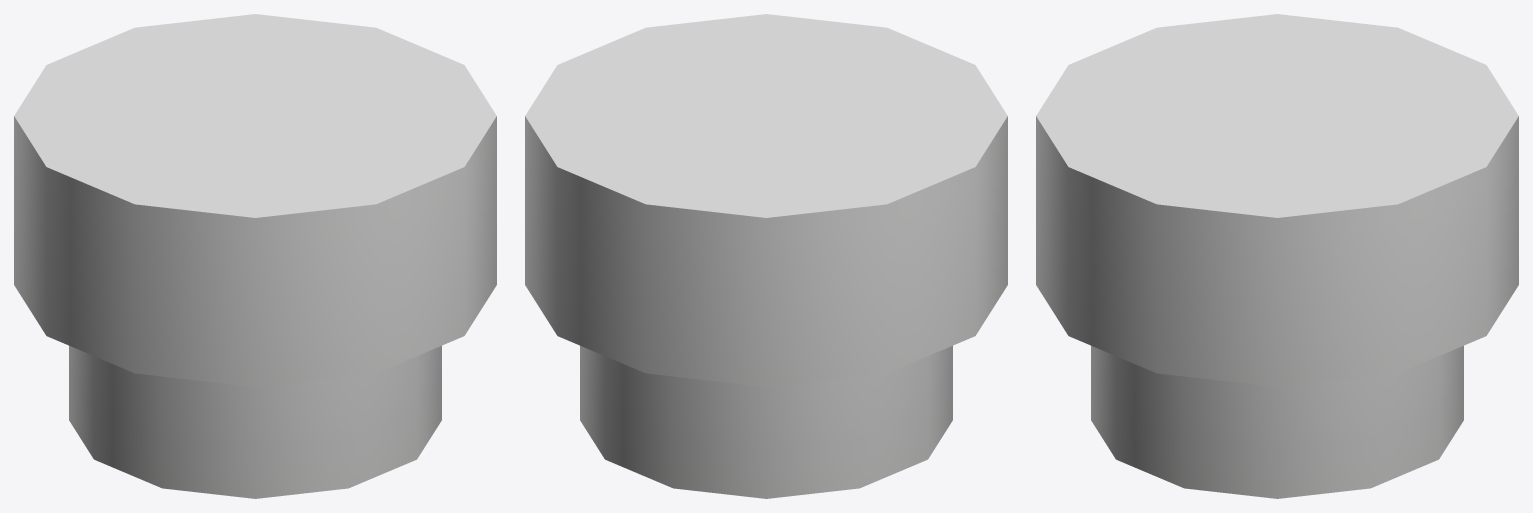
Rendered from Head_Prop_Cooking_Toque_05.fbx.
3 views of the same model, side by side, from view 1: azimuth 30°, elevation 25°; view 2: azimuth 150°, elevation 25°; view 3: azimuth 270°, elevation 25° (orthographic).
Visible parts, largest first — view 1: Head_Prop_Cooking_Toque_05; view 2: Head_Prop_Cooking_Toque_05; view 3: Head_Prop_Cooking_Toque_05.
Boxes of the visible parts, left/top/right/bottom form: Head_Prop_Cooking_Toque_05: left=14, top=14, right=496, bottom=498; Head_Prop_Cooking_Toque_05: left=525, top=14, right=1007, bottom=498; Head_Prop_Cooking_Toque_05: left=1036, top=14, right=1518, bottom=498.
Size of the model in its own units: 129 by 89.95 by 129.
